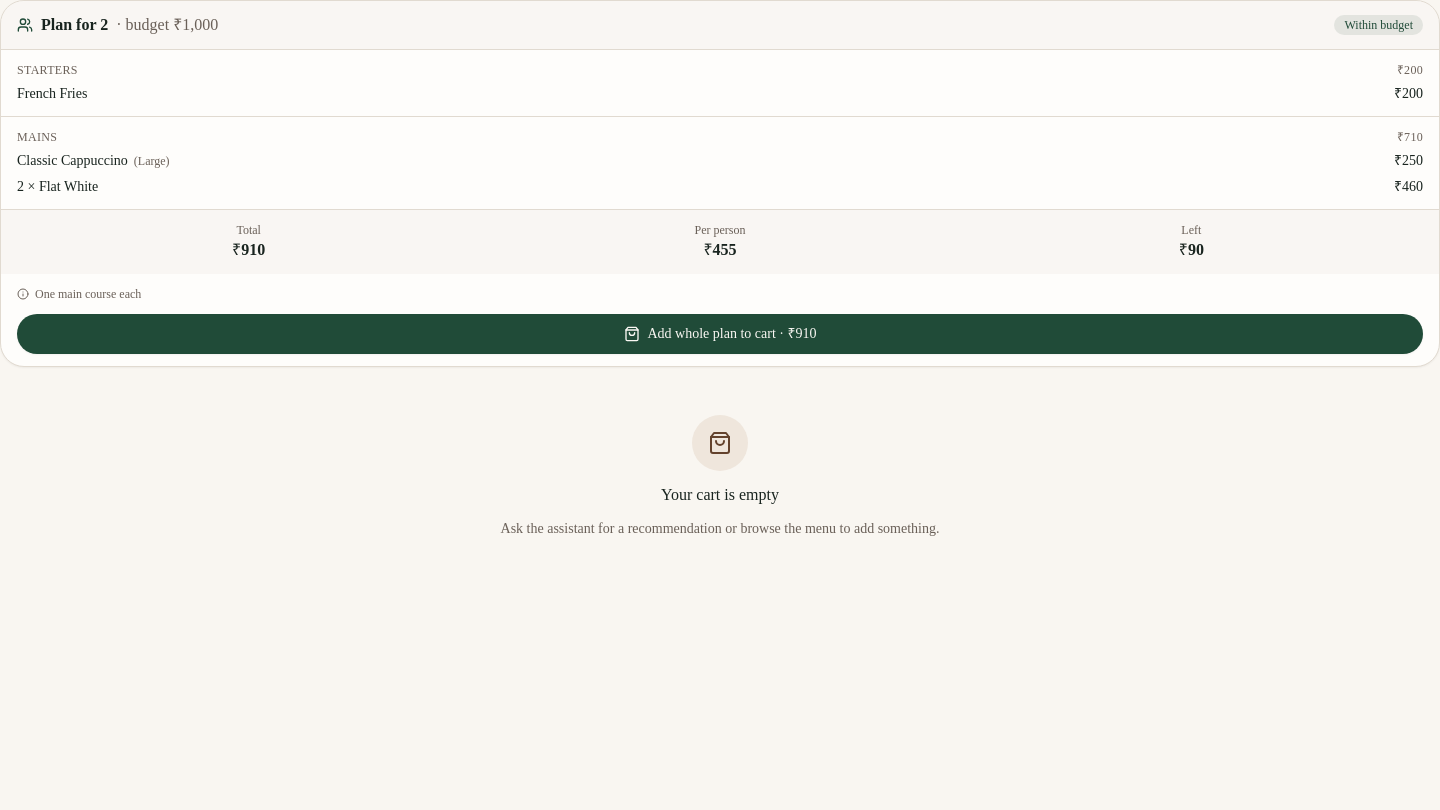
Test: PlanCard › shows the breakdown and adds the whole plan to the cart
The width and height of the screenshot is (1440, 810).
Expected: the text "Within budget" is shown, x1=1334 y1=15 x2=1423 y2=35
Expected: the text with test id "subtotal-main" reads "₹710", x1=1397 y1=130 x2=1423 y2=144
What coordinates should you click on to do the following:
click the button "Add whole plan to cart · ₹910"
I would click on:
 (720, 334)
Its box is x1=17 y1=314 x2=1423 y2=354.
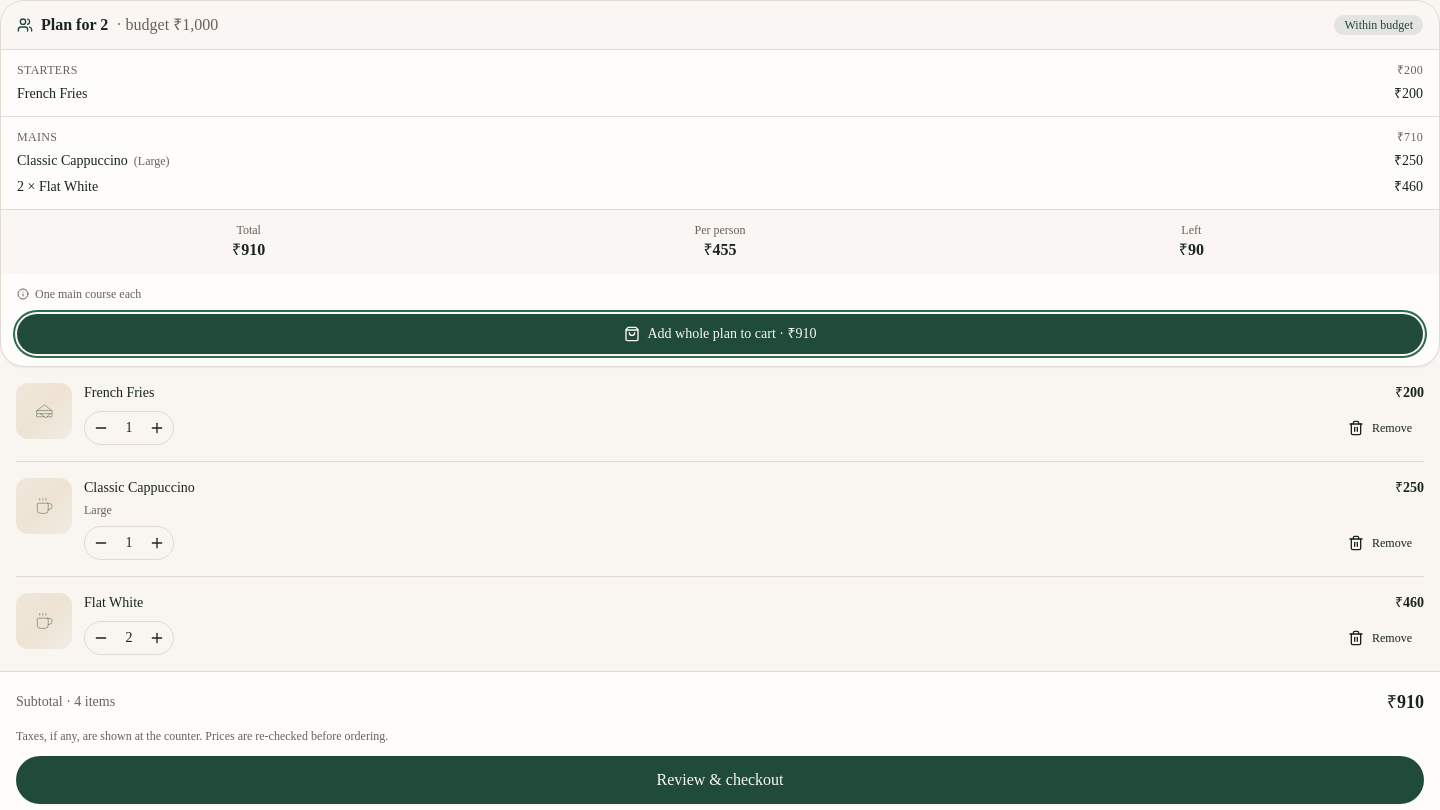
Expected: the text with test id "cart-subtotal" reads "₹910", x1=1387 y1=692 x2=1424 y2=712
Expected: the text "Large" is shown, x1=84 y1=503 x2=112 y2=517
